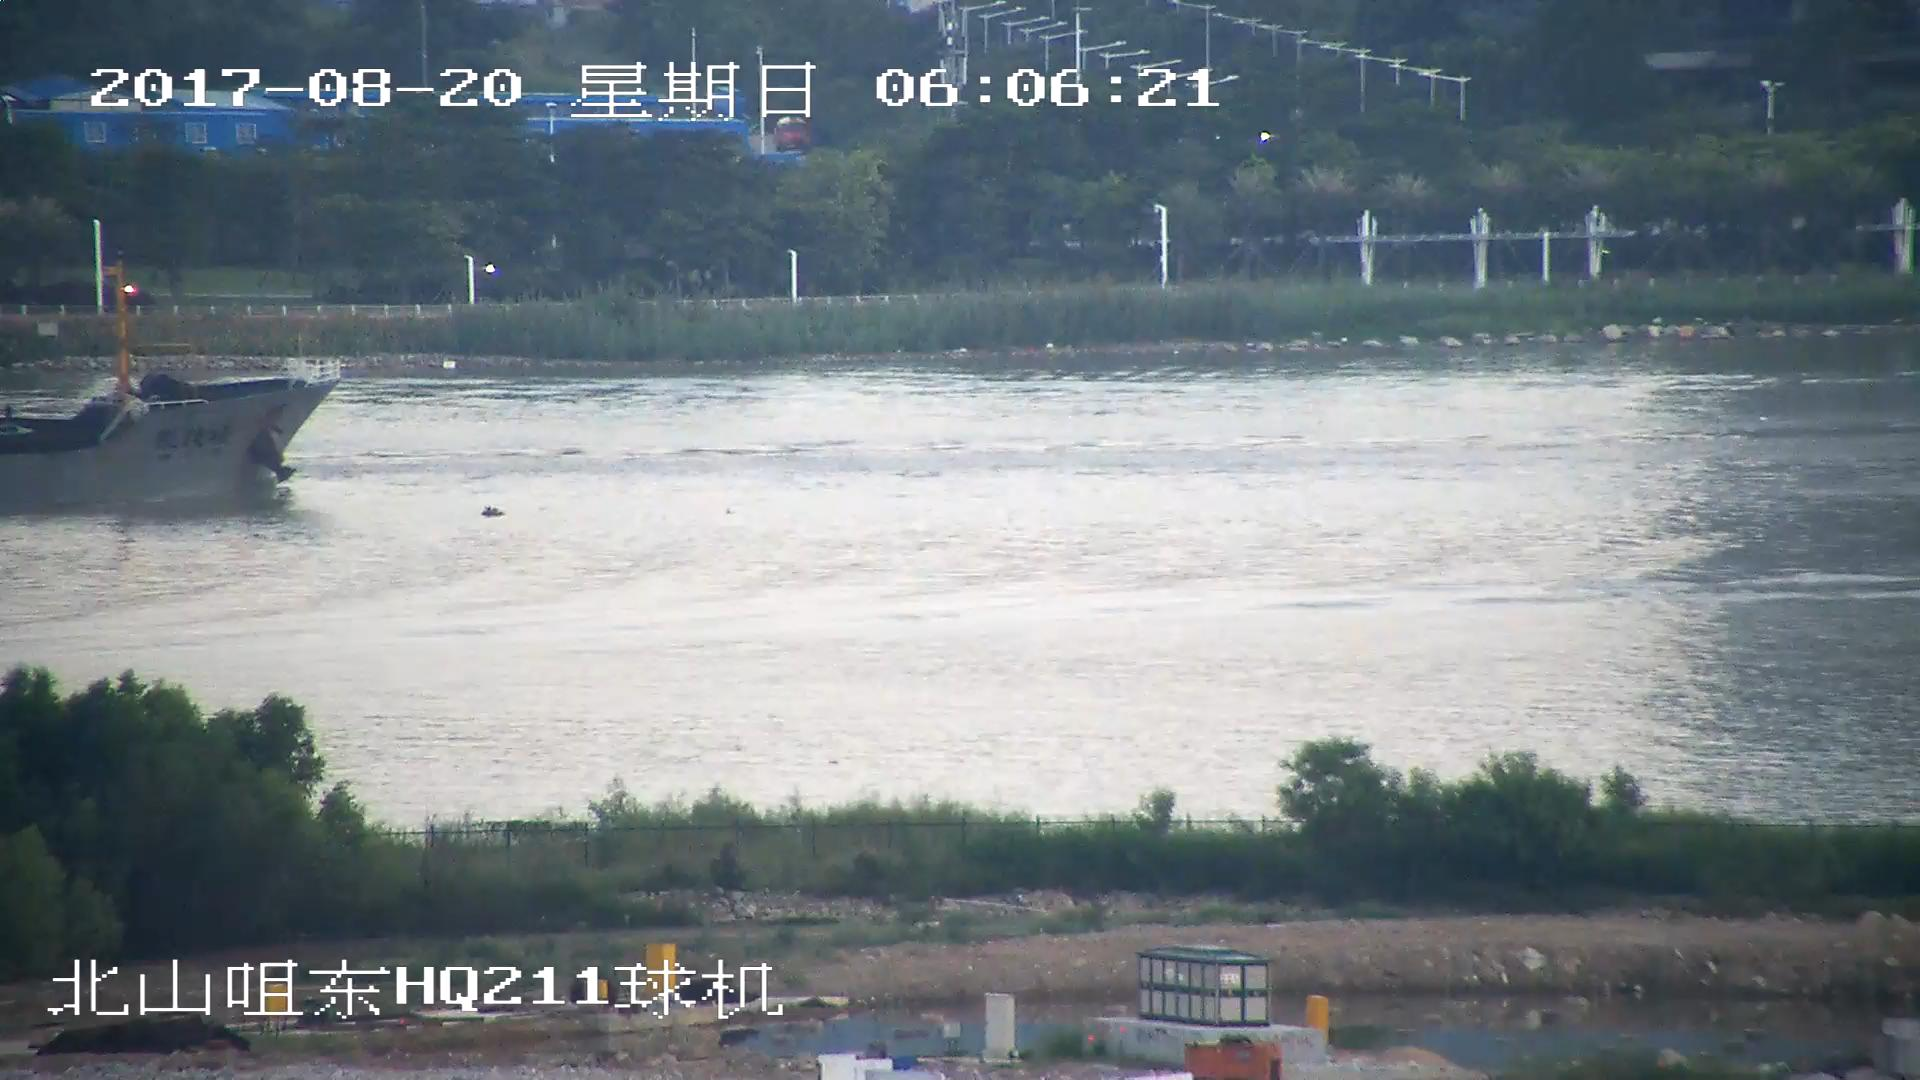general cargo ship: (1, 334, 327, 506)
